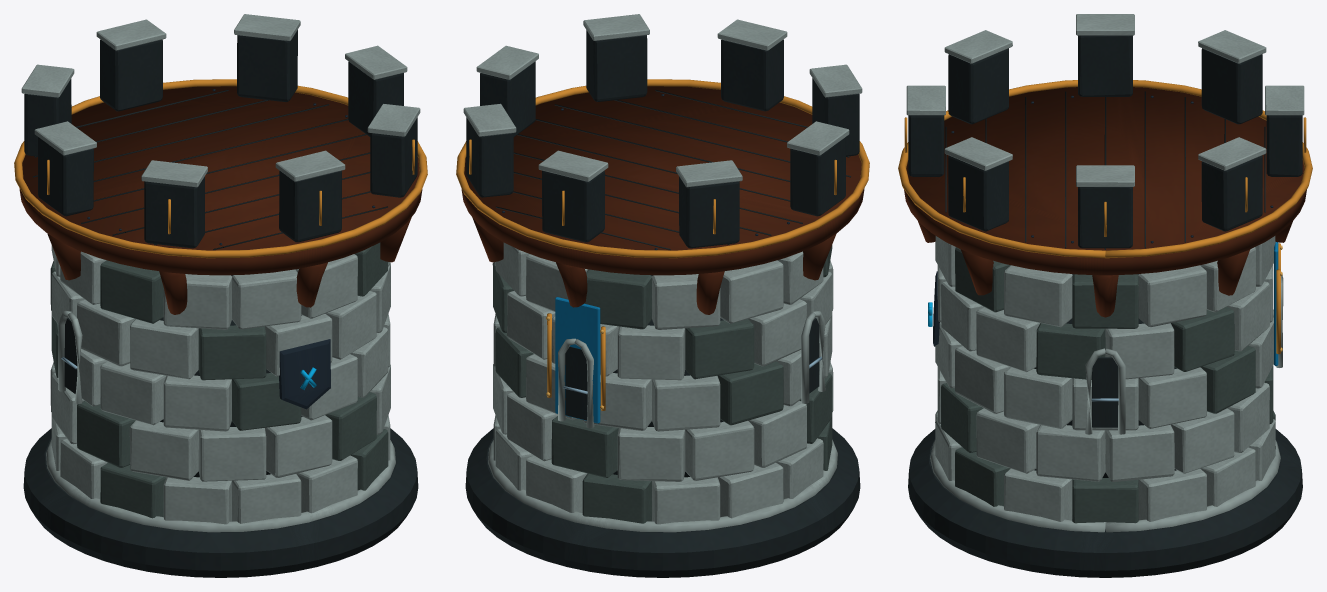
The model's file is SM_archer_tower_LOD1.fbx.
3 renders of one model, left to right at view 1: azimuth 30°, elevation 25°; view 2: azimuth 150°, elevation 25°; view 3: azimuth 270°, elevation 25°, orthographic.
Visible parts, largest first — view 1: SM_archer_tower_LOD1; view 2: SM_archer_tower_LOD1; view 3: SM_archer_tower_LOD1.
Part boxes in pixels (x1,y1,x2,y2): SM_archer_tower_LOD1: (14,14,427,577); SM_archer_tower_LOD1: (456,14,869,577); SM_archer_tower_LOD1: (898,14,1312,577).
Bounding box in the file's own units: 2.13 × 2.13 × 2.27.
